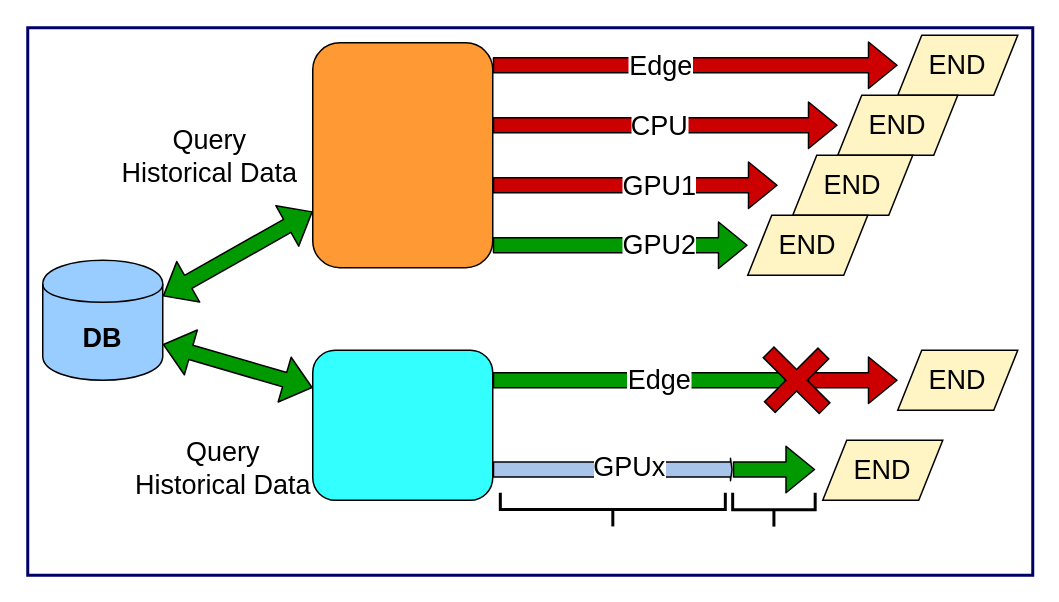
The diagram is 1059 pixels wide and 602 high, and some of its shapes have lost their labels. Each missing label, with the box of its shape:
Deployment: (498, 490, 726, 527)
Duplicator: (311, 349, 493, 500)
Proc: (730, 491, 816, 527)
Selector: (311, 41, 493, 268)
